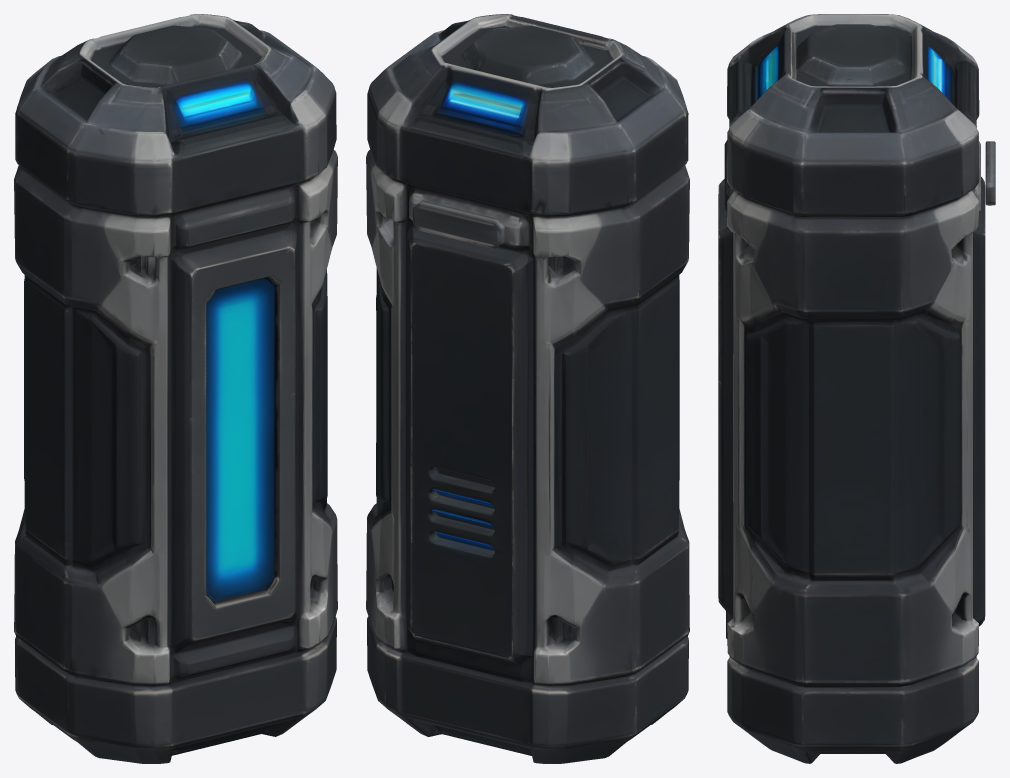
The model's file is battery.glb.
3 renders of one model, left to right at view 1: azimuth 30°, elevation 25°; view 2: azimuth 150°, elevation 25°; view 3: azimuth 270°, elevation 25°, orthographic.
Parts seen in each view (by area): view 1: Mesh_0; view 2: Mesh_0; view 3: Mesh_0.
Part boxes in pixels (x1=…): Mesh_0: x1=14, y1=14, x2=337, y2=763; Mesh_0: x1=366, y1=14, x2=689, y2=763; Mesh_0: x1=718, y1=14, x2=995, y2=763.
Size of the model in its own units: 0.4864 by 1.15 by 0.4297.
Materials: 1 (1 with a texture image).
